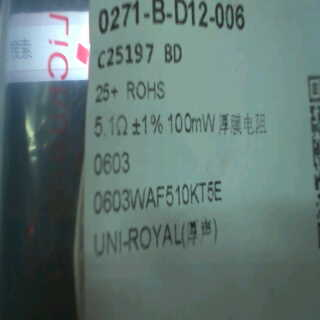5.1R: (92, 110, 130, 144)
